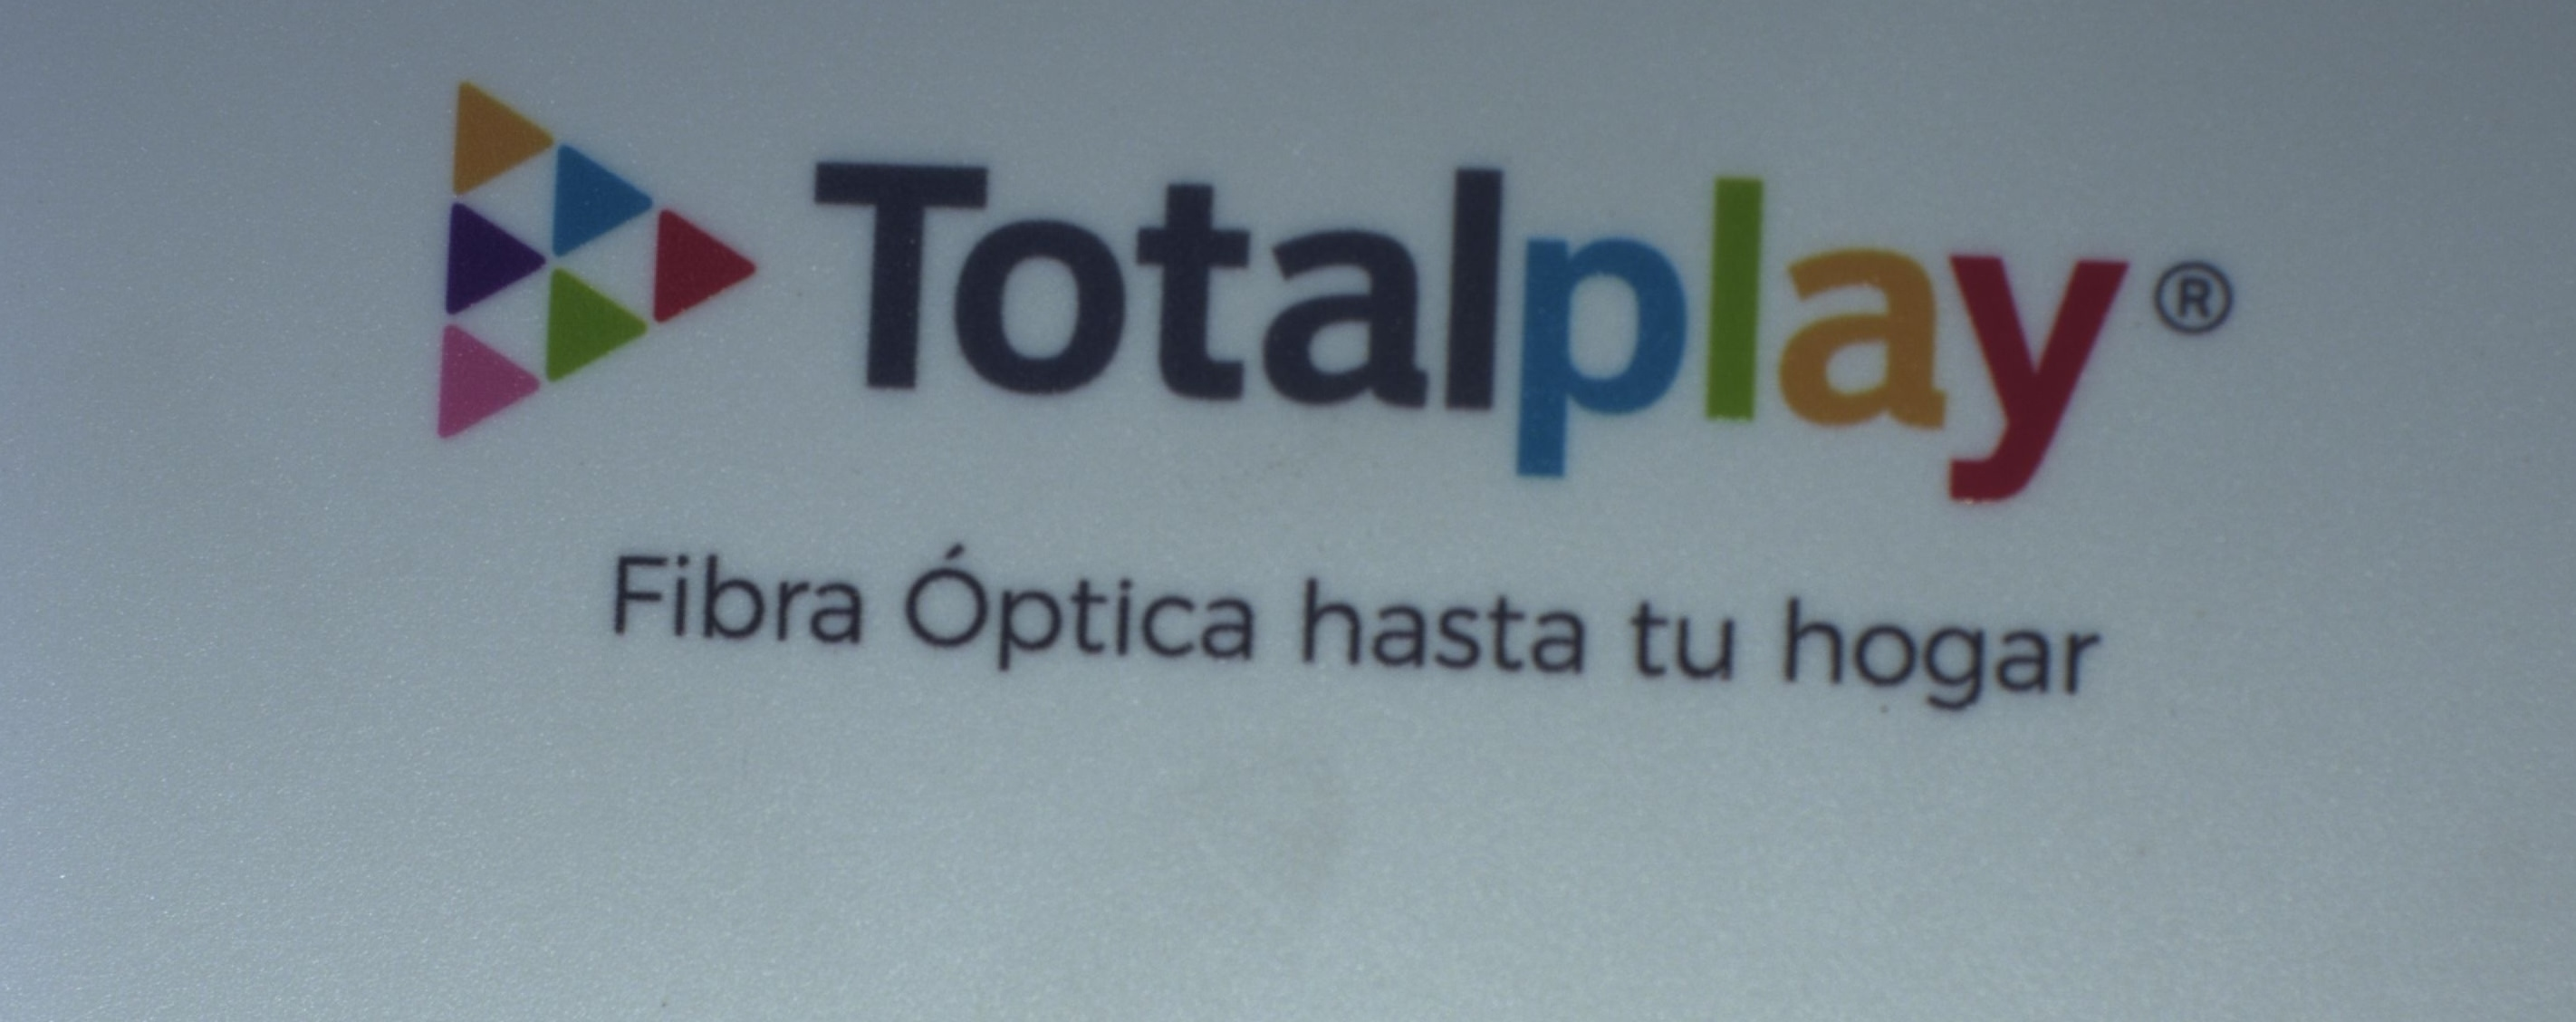BP_TotalPlay: (416, 64, 2256, 726)
